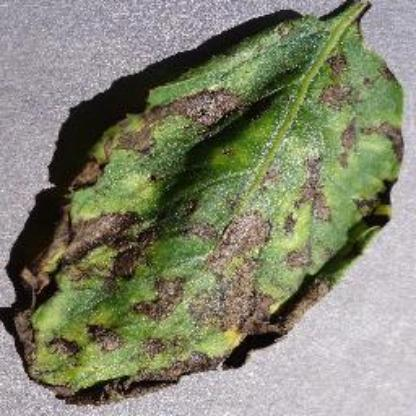Early-Blight: (15, 0, 405, 408)
